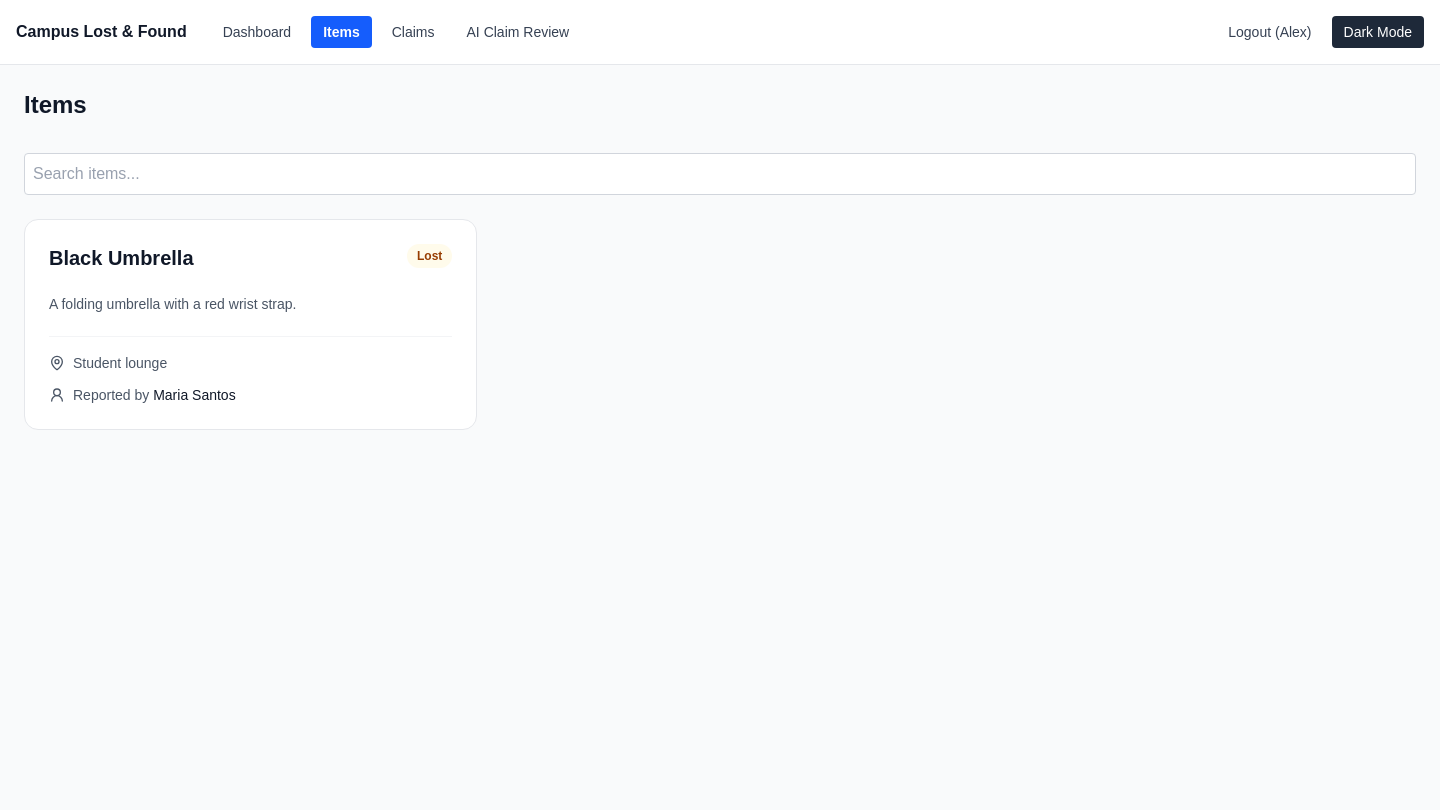
Scenario: item claim flow › opens an item from the catalogue and submits trimmed proof for that item
Click the link "Black Umbrella": (251,324) [24,219,477,430]
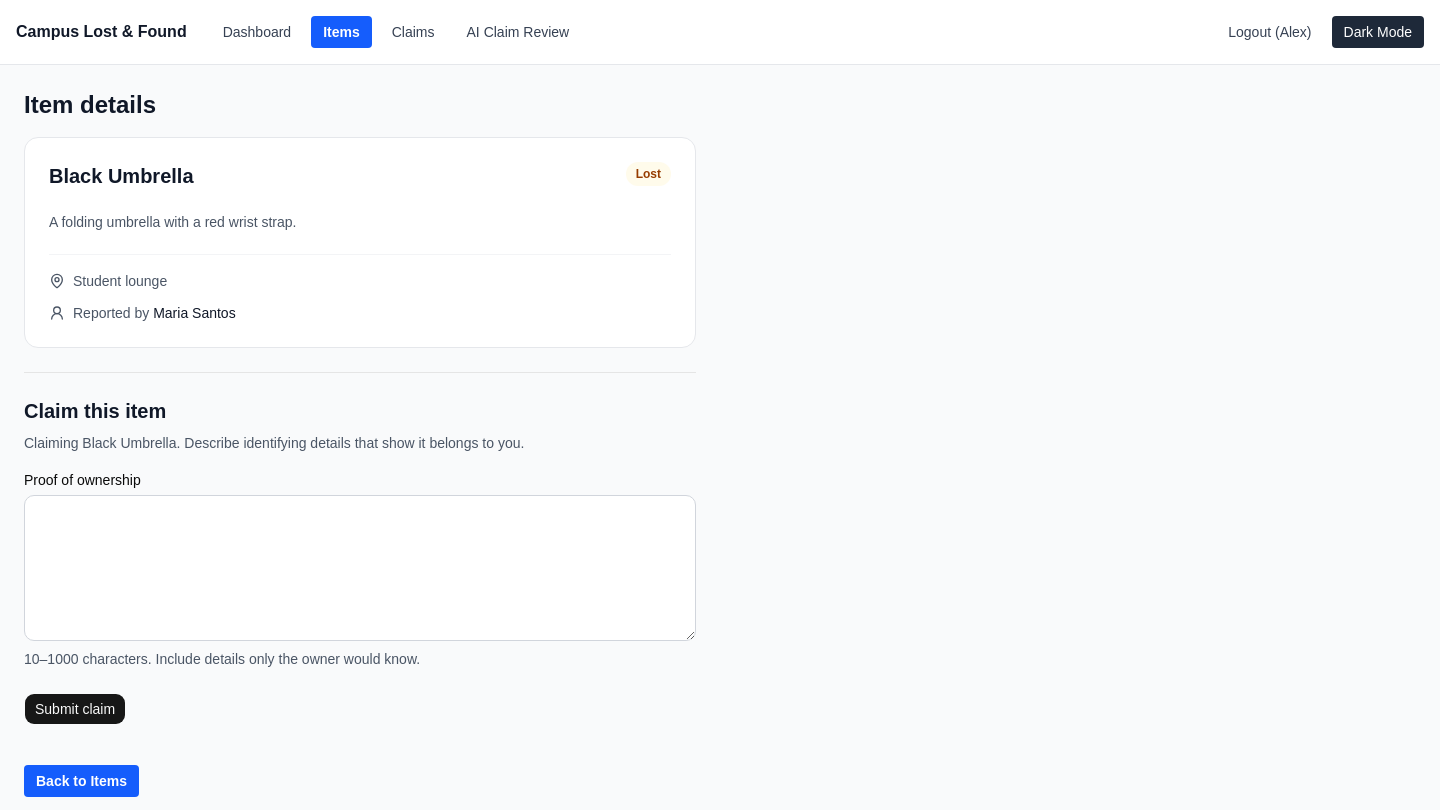
Expected: the text "Maria Santos" is shown, [153,305,236,321]
In the text box labelled "Proof of ownership": (360,568) [24,495,696,641], type "  My initials are on the handle.  "
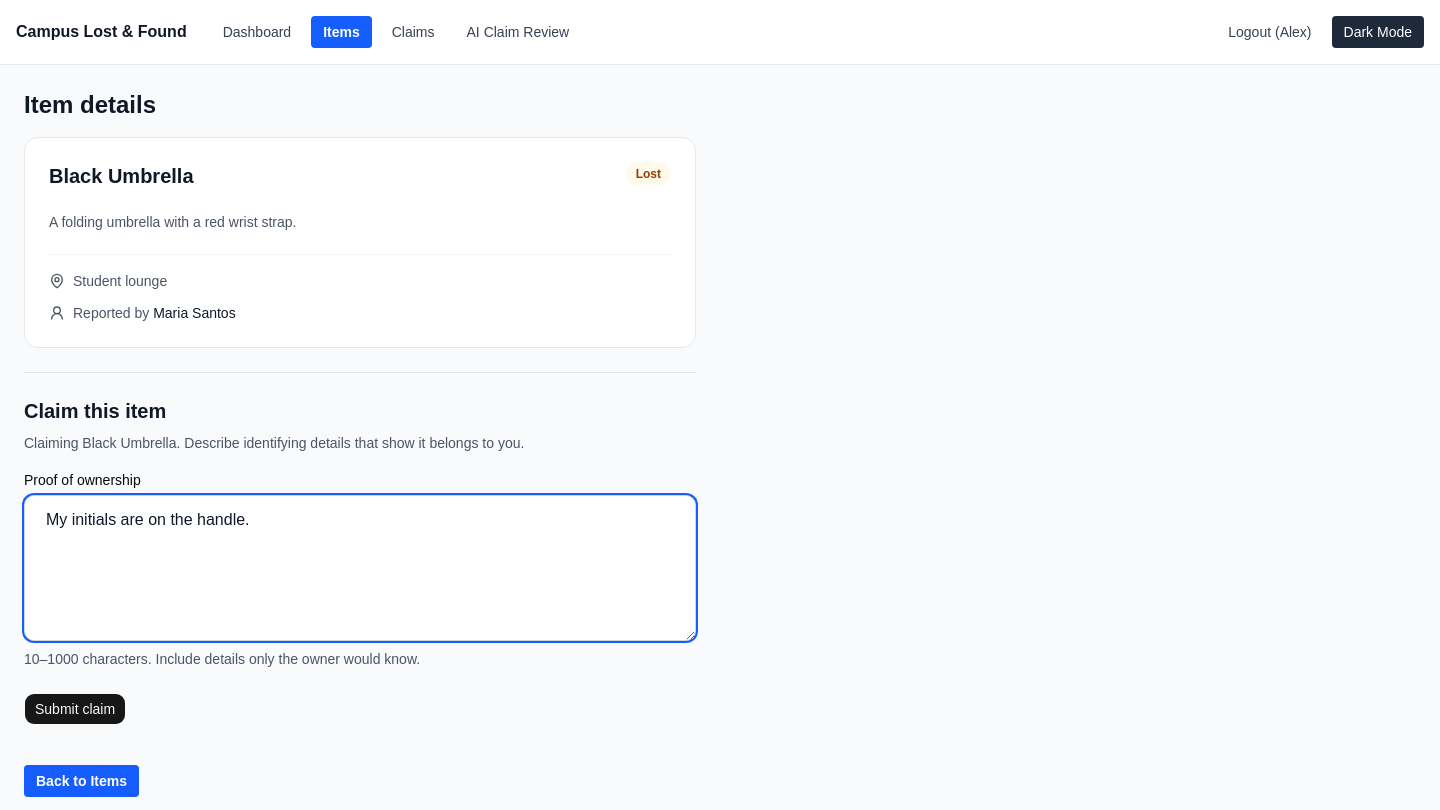
Click the button "Submit claim": (75,709) [24,693,126,725]
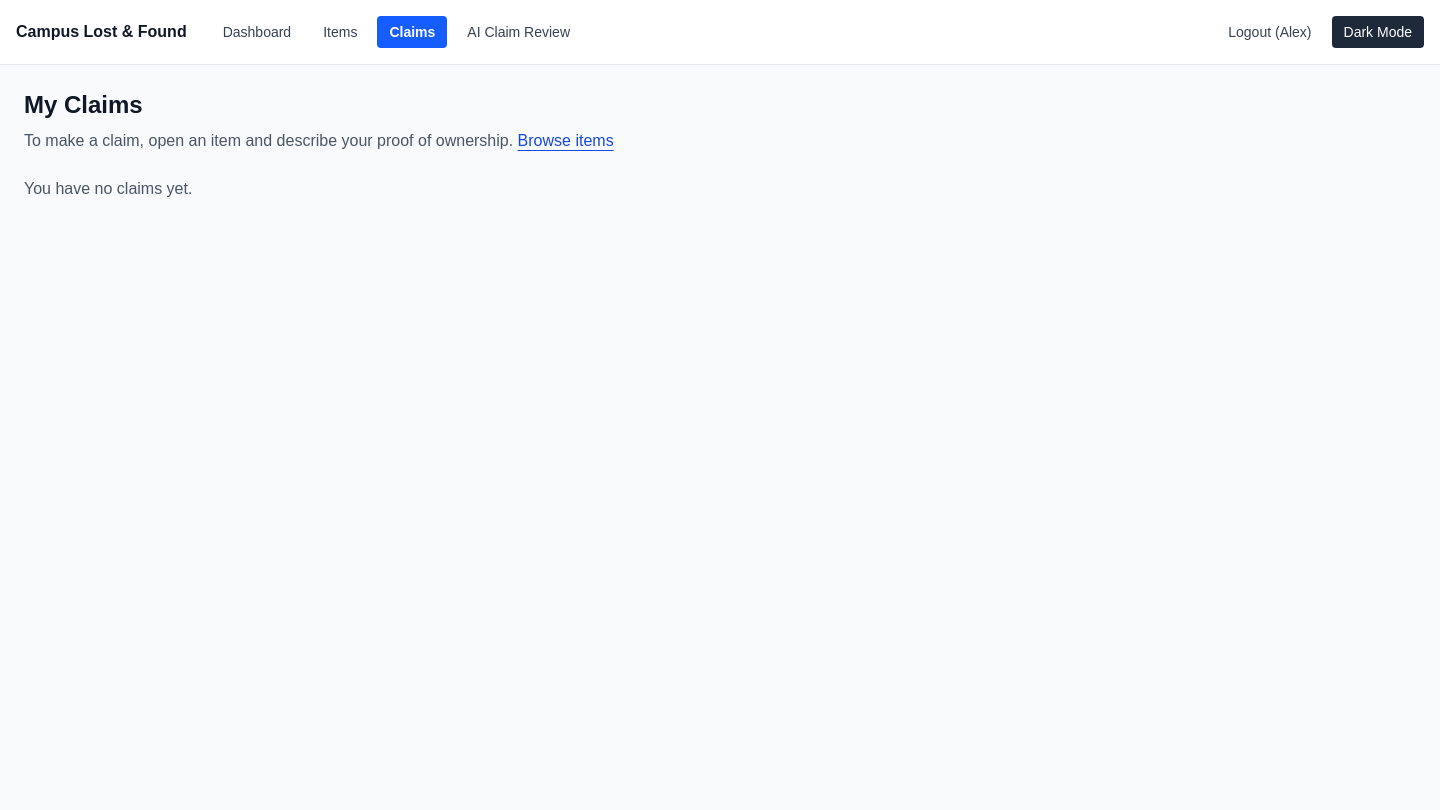
Expected: the heading "My Claims" is shown, [24,91,143,118]
